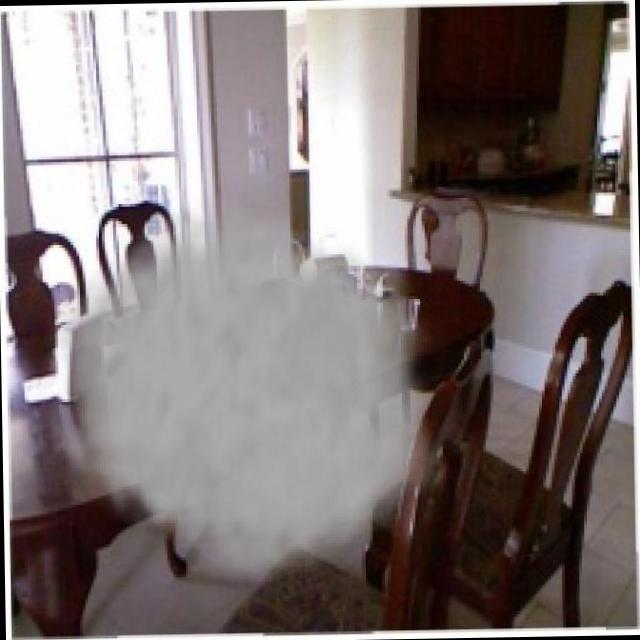Smoke: (47, 181, 454, 596)
